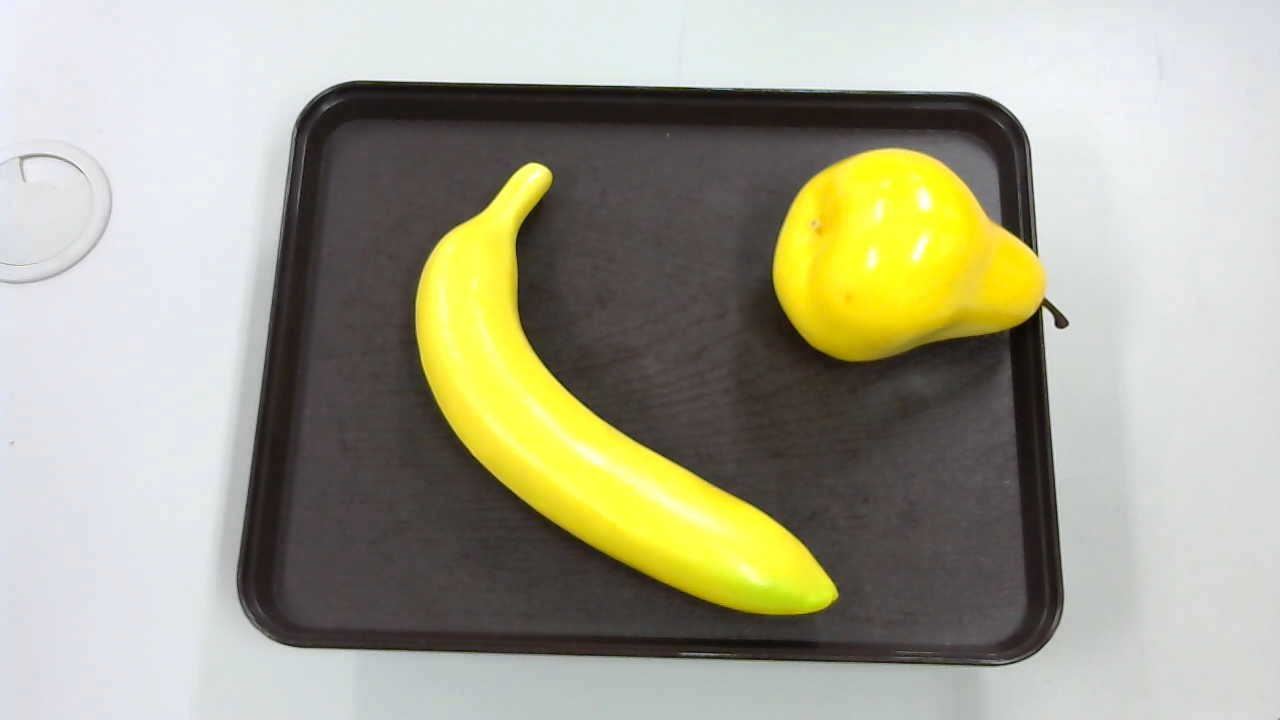banana: (412, 160, 842, 627)
yellow pear: (773, 148, 1068, 362)
